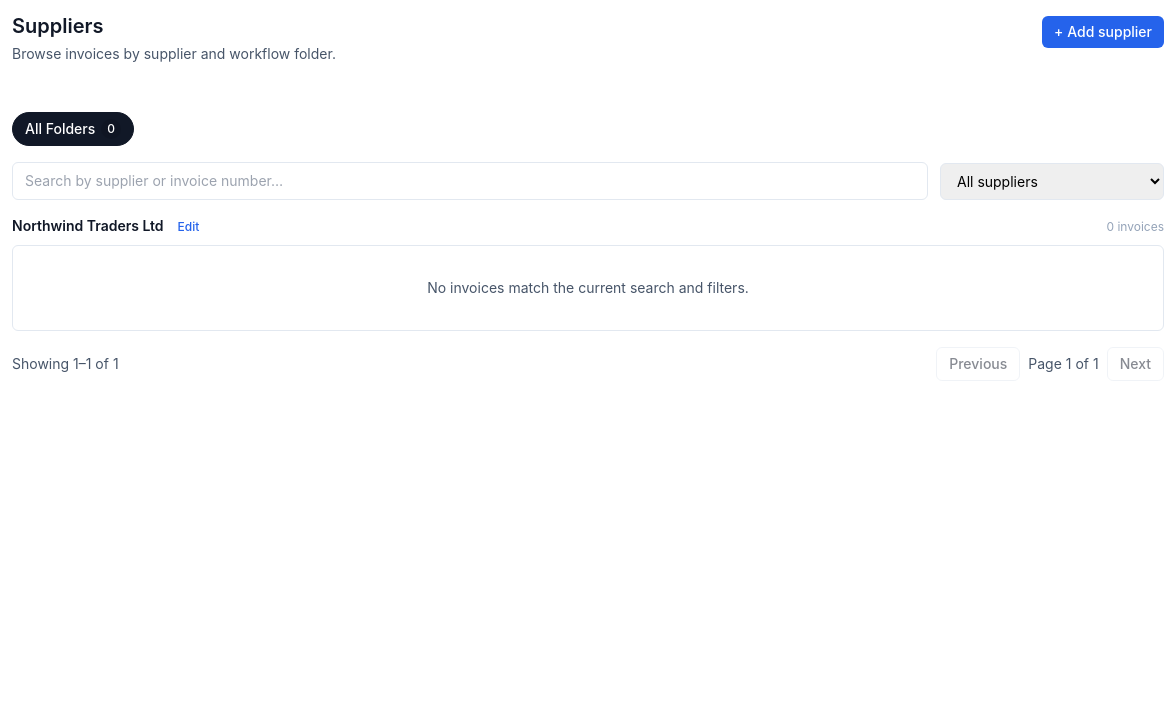
SuppliersPage — create/edit wiring (WP-027) › opens the Add supplier form when "+ Add supplier" is clicked, and hides the button while it is open
Click the button "+ Add supplier": (1103, 32) [1042,16,1164,48]
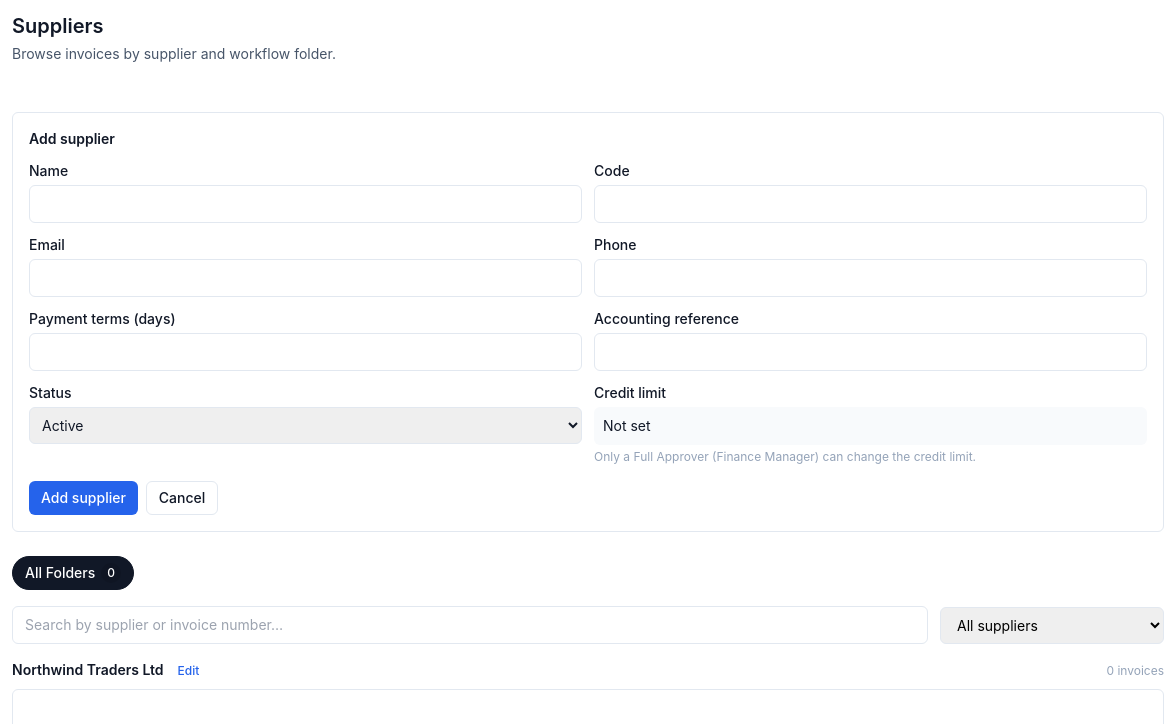
Expected: the heading "Add supplier" is shown, [29,130,115,147]
Expected: the button "+ Add supplier" is gone
